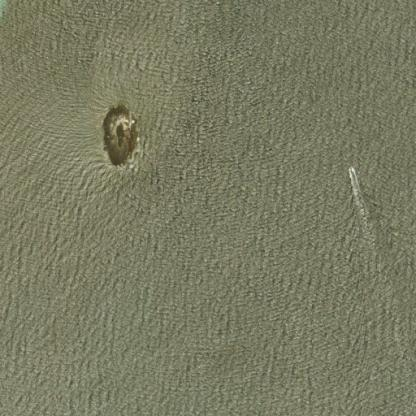ship: (344, 159, 358, 182)
